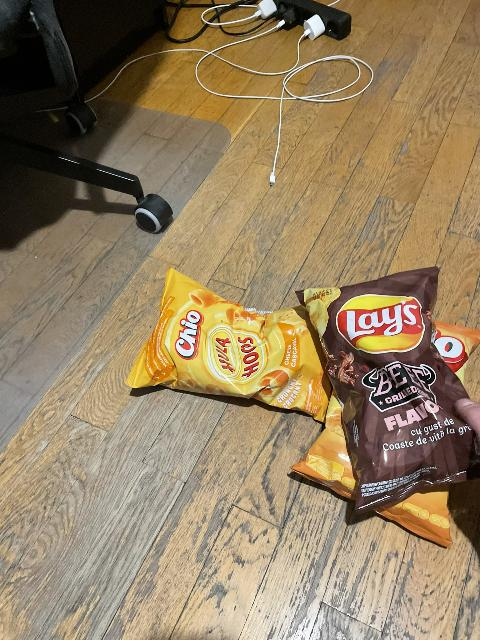Chio Cascaval 125g: (287, 317, 476, 550)
Chio Hula Hoops Cheese 70g: (127, 267, 330, 422)
Lays Beef Grilled Ribs 125g: (291, 264, 480, 527)
